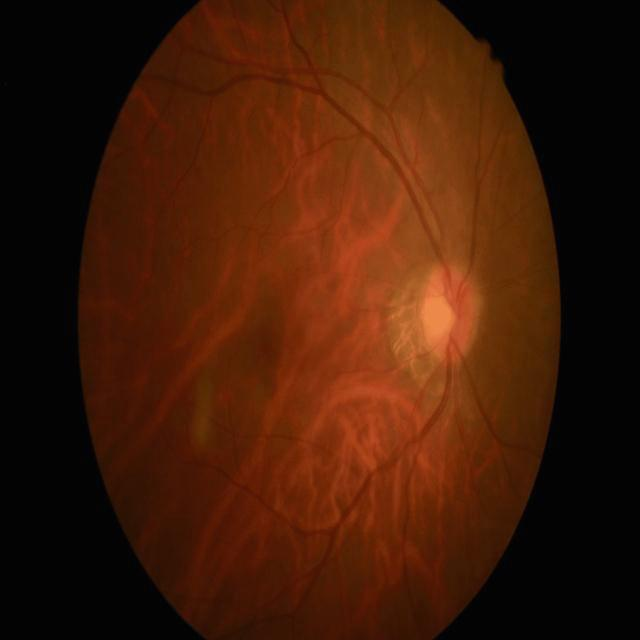cup: (430, 293, 460, 339)
disk: (422, 261, 476, 361)
